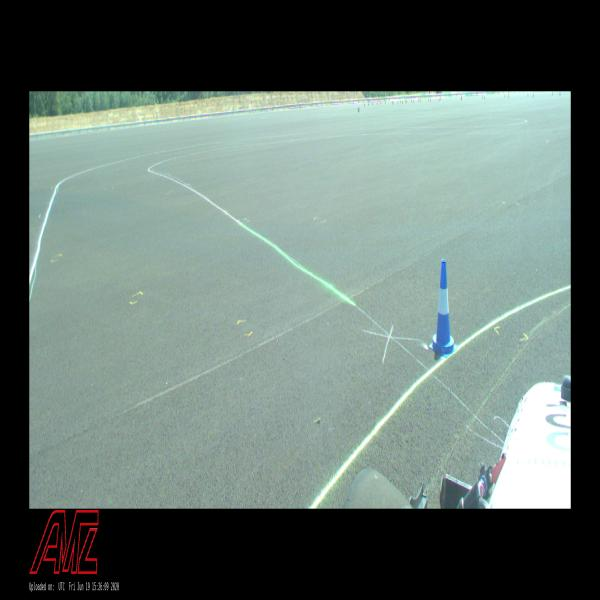blue_cone: (428, 260, 458, 358)
